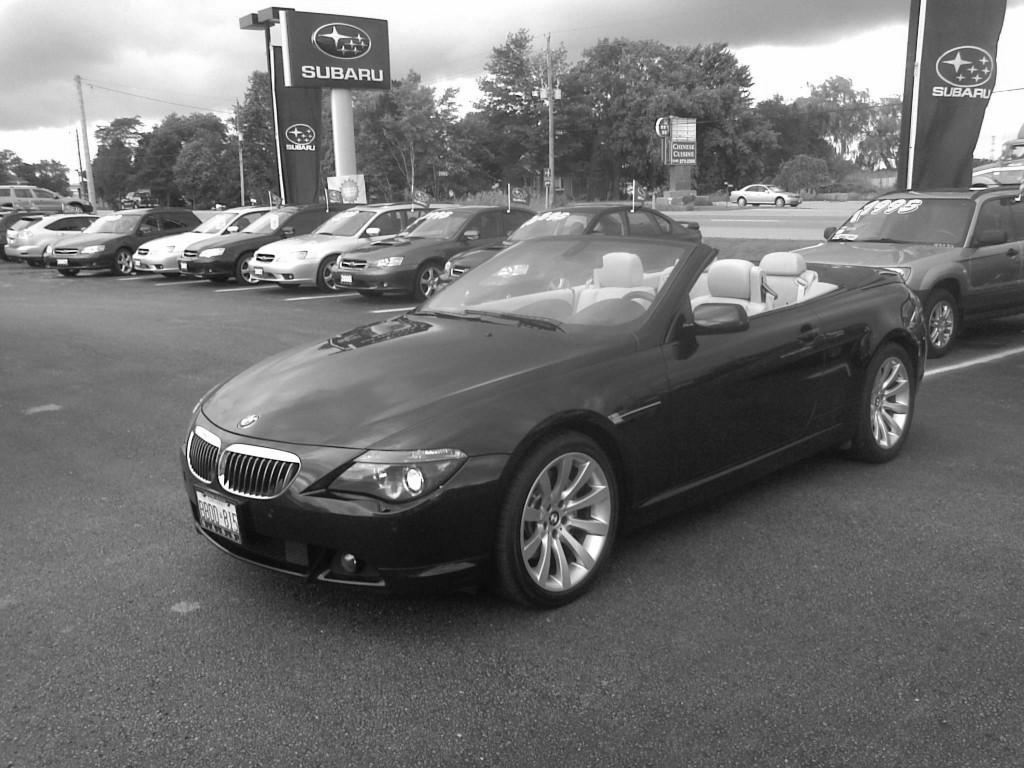car: (187, 235, 934, 604)
